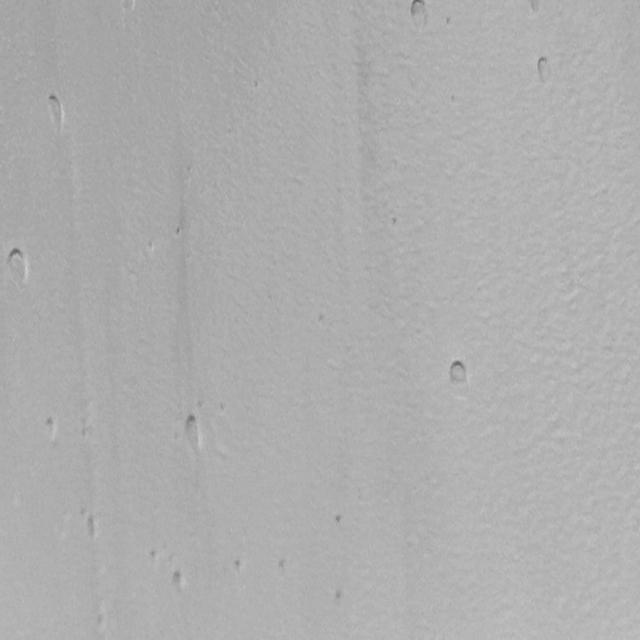pin holes: (40, 90, 68, 136), (2, 244, 30, 286), (179, 414, 205, 454), (445, 356, 472, 390), (532, 55, 554, 86), (406, 0, 429, 28), (40, 414, 60, 442), (81, 515, 101, 542), (169, 568, 188, 595), (142, 238, 161, 262), (274, 556, 292, 579), (118, 0, 140, 16), (94, 611, 108, 631), (333, 589, 347, 607), (232, 556, 246, 574), (333, 512, 348, 528), (149, 548, 161, 566), (172, 225, 184, 240), (528, 0, 539, 16), (219, 401, 227, 416), (392, 216, 402, 228), (450, 93, 458, 105), (318, 313, 325, 325), (253, 78, 260, 89), (447, 15, 451, 29)
